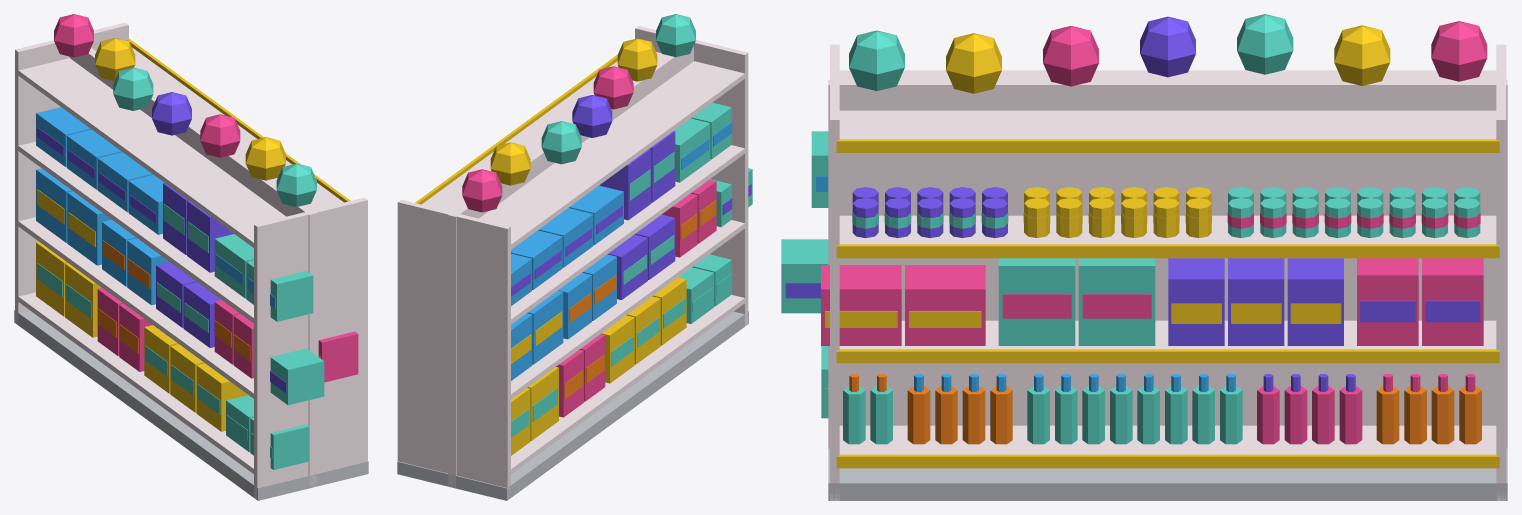
Rendered from toy-shelf.glb.
The picture shows the model from 3 angles, left to right: view 1: azimuth 30°, elevation 25°; view 2: azimuth 150°, elevation 25°; view 3: azimuth 270°, elevation 25°; orthographic projection. The views are drawn at different scales.
Parts seen in each view (by area): view 1: toy-shelf; view 2: toy-shelf; view 3: toy-shelf.
Boxes of the visible parts, x1,y1,x2,y2 form: toy-shelf: [14, 14, 368, 500]; toy-shelf: [397, 14, 752, 500]; toy-shelf: [781, 14, 1507, 500].
Bounding box in the file's own units: 1.12 × 2.95 × 4.49.
